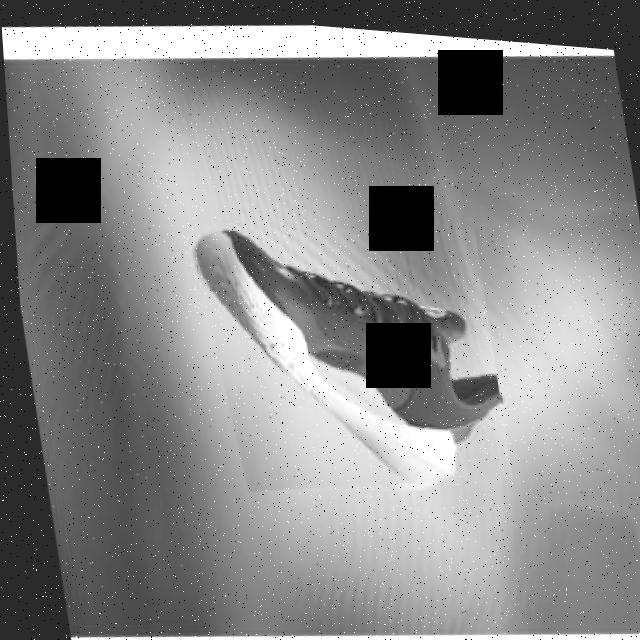shoe: (184, 202, 509, 506)
